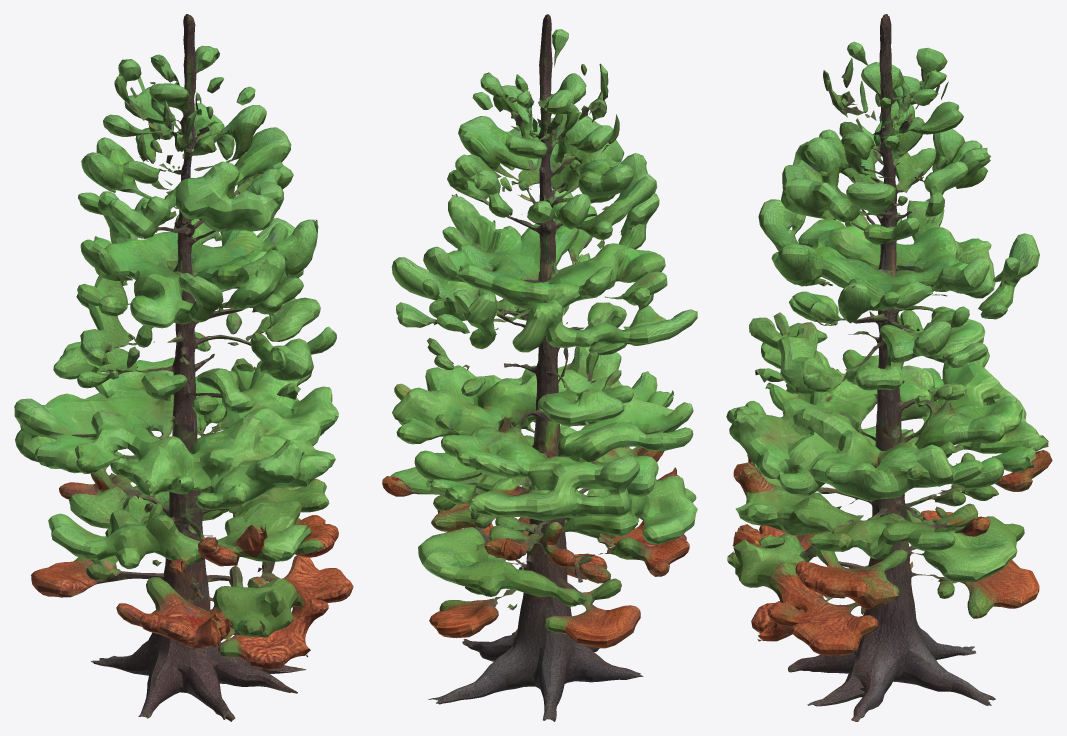
Rendered from raw_meshy_model.glb.
The picture shows the model from 3 angles, left to right: view 1: azimuth 30°, elevation 25°; view 2: azimuth 150°, elevation 25°; view 3: azimuth 270°, elevation 25°; orthographic projection.
Size of the model in its own units: 0.8143 by 1.89 by 0.847.
Materials: 1 (1 with a texture image).
